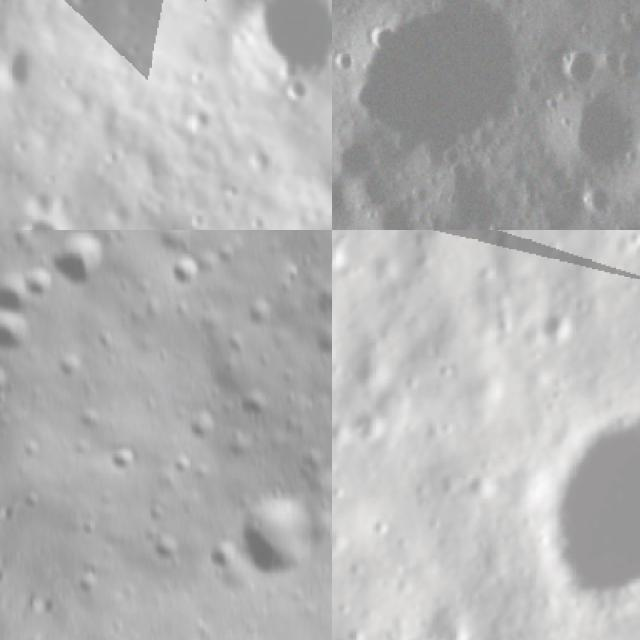crater: (332, 0, 556, 185), (499, 399, 640, 640), (213, 473, 332, 604), (524, 69, 640, 195), (222, 0, 332, 83), (38, 230, 135, 309), (525, 303, 587, 368), (0, 262, 43, 336), (138, 524, 194, 578), (174, 398, 230, 452), (18, 260, 69, 316), (365, 189, 430, 230), (161, 248, 212, 297), (230, 384, 282, 432), (556, 42, 604, 93), (0, 303, 38, 366), (93, 437, 140, 485), (1, 44, 38, 95), (302, 317, 332, 370), (332, 170, 357, 230), (535, 0, 620, 17), (353, 406, 391, 443), (278, 75, 315, 111), (7, 214, 67, 230), (332, 44, 357, 76), (61, 0, 100, 17)
